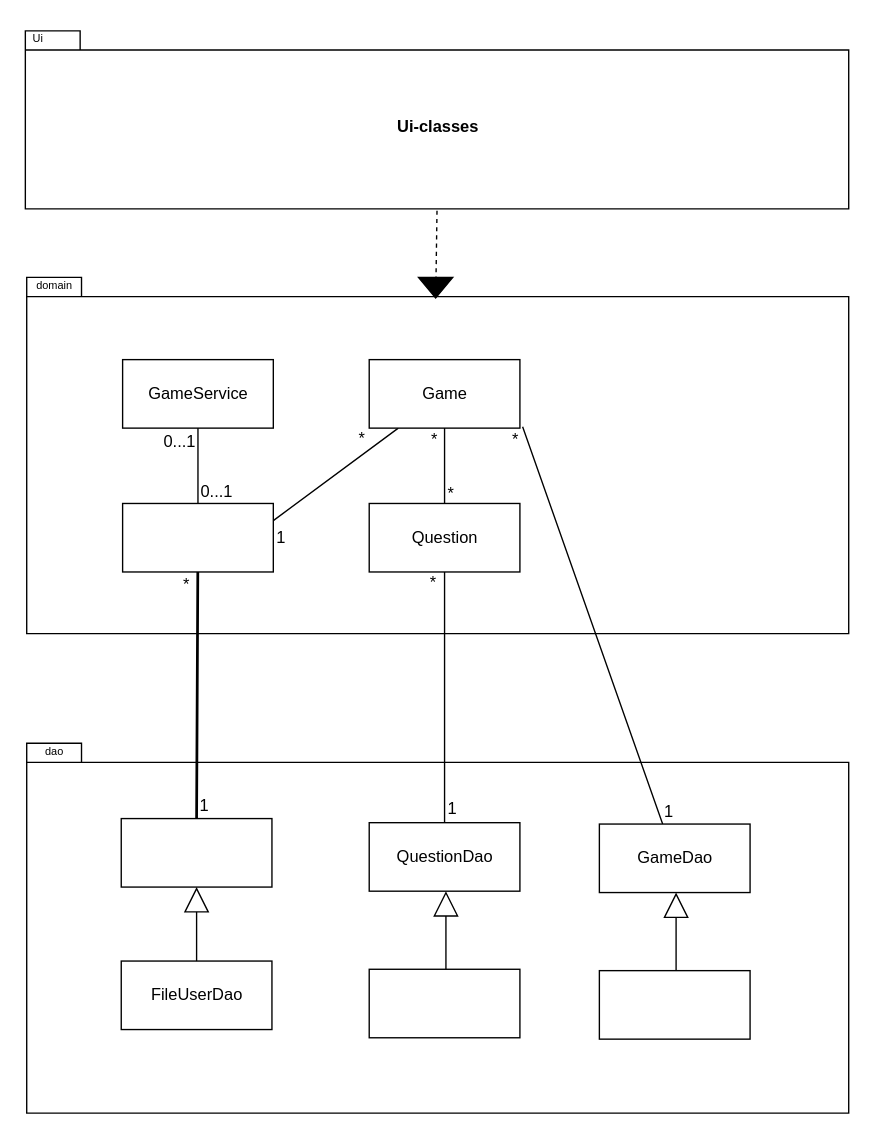
This 873x1137 diagram has some shape labels left out. Each missing label, with the box of its shape:
FileGameDao: (598, 969, 750, 1039)
FileQuestionDao: (368, 968, 520, 1038)
User: (121, 502, 273, 572)
UserDao: (120, 817, 272, 887)
